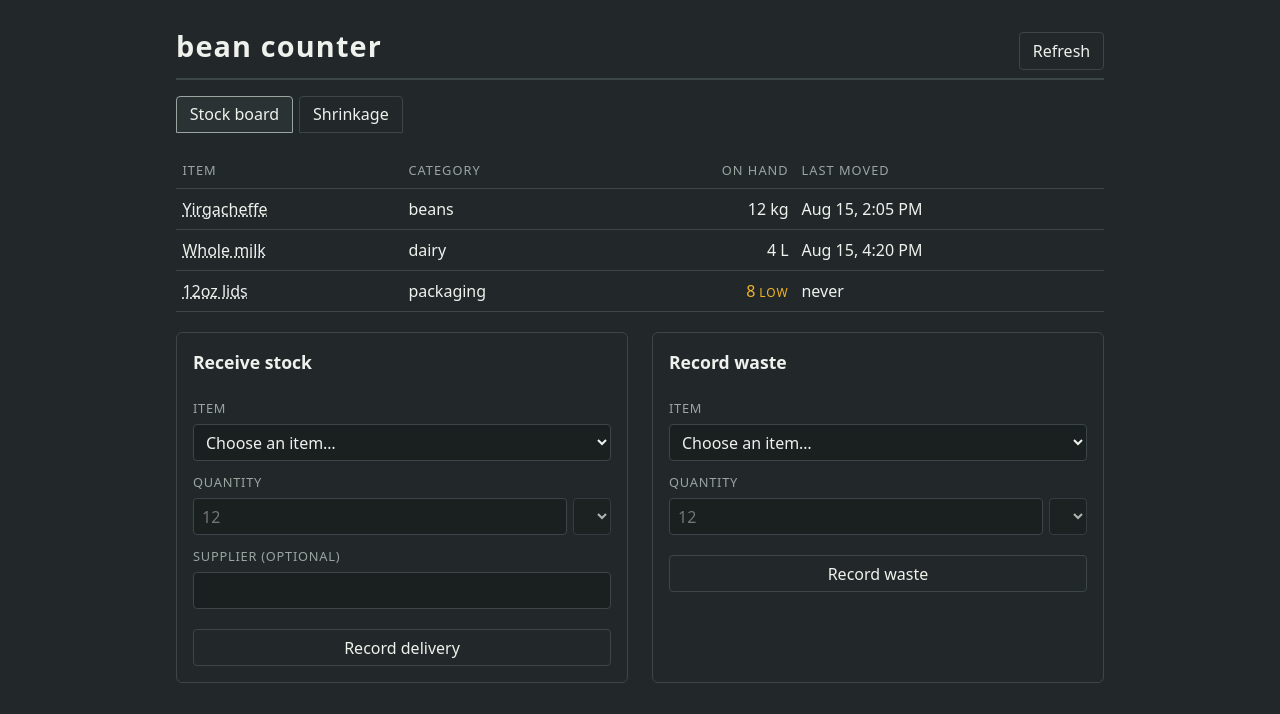
stock board › shows an item history newest first when an item is clicked
Click the button "Yirgacheffe": (225, 209) [182,197,268,221]
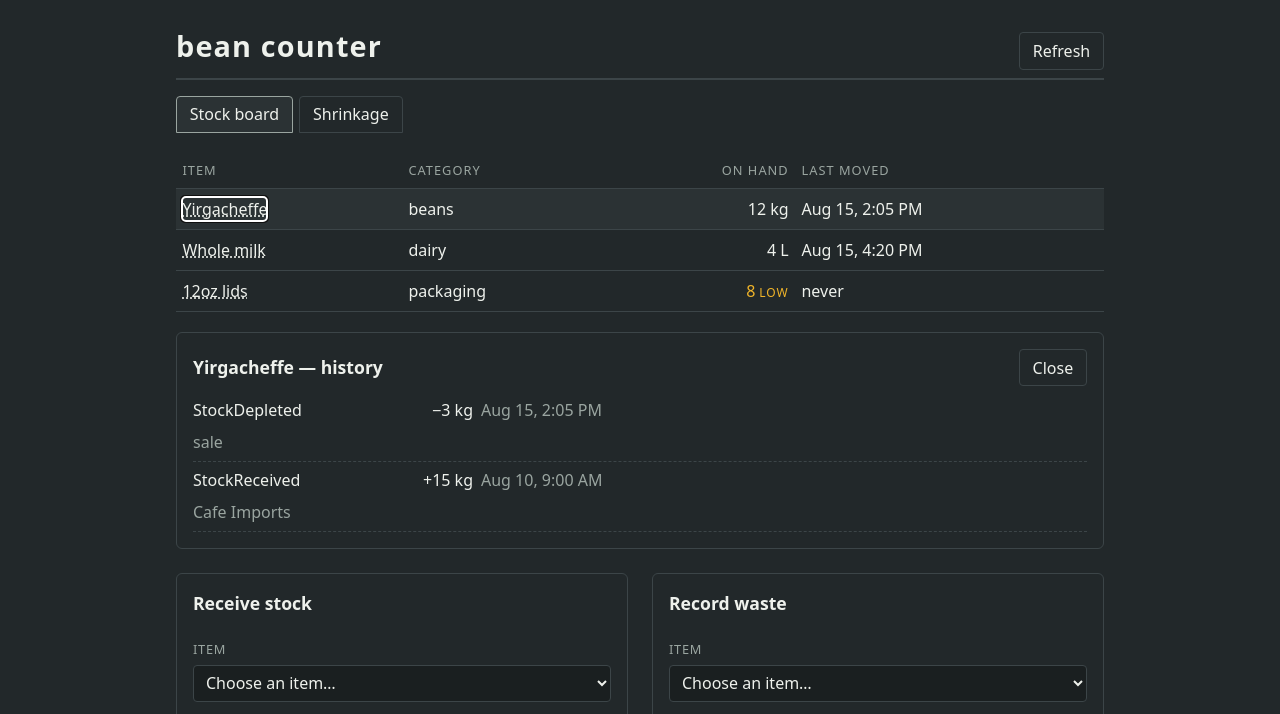
Expected: the number of list items is 2, [193,392,1087,462]; [193,462,1087,532]
Expected: the list is shown, [193,392,1087,532]
Expected: the list item "StockDepleted −3 kg Aug 15, 2:05 PM sale" is shown, [193,392,1087,462]
